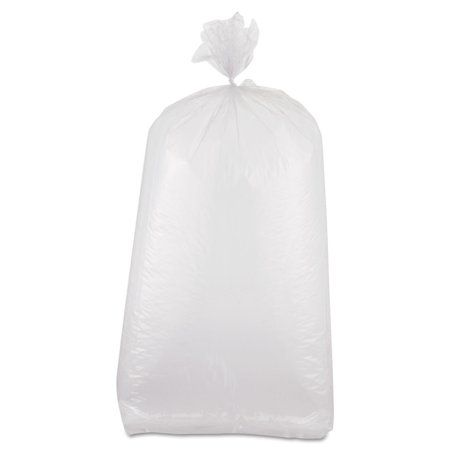Plastic: (116, 12, 335, 441)
